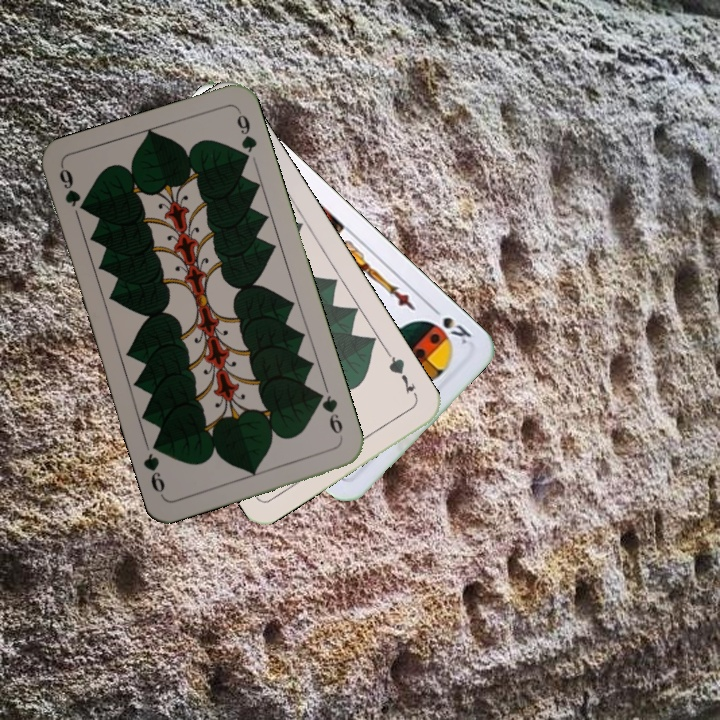G7: (383, 348, 418, 397)
G9: (55, 163, 89, 215), (312, 387, 346, 437)
SK: (426, 301, 474, 348)
